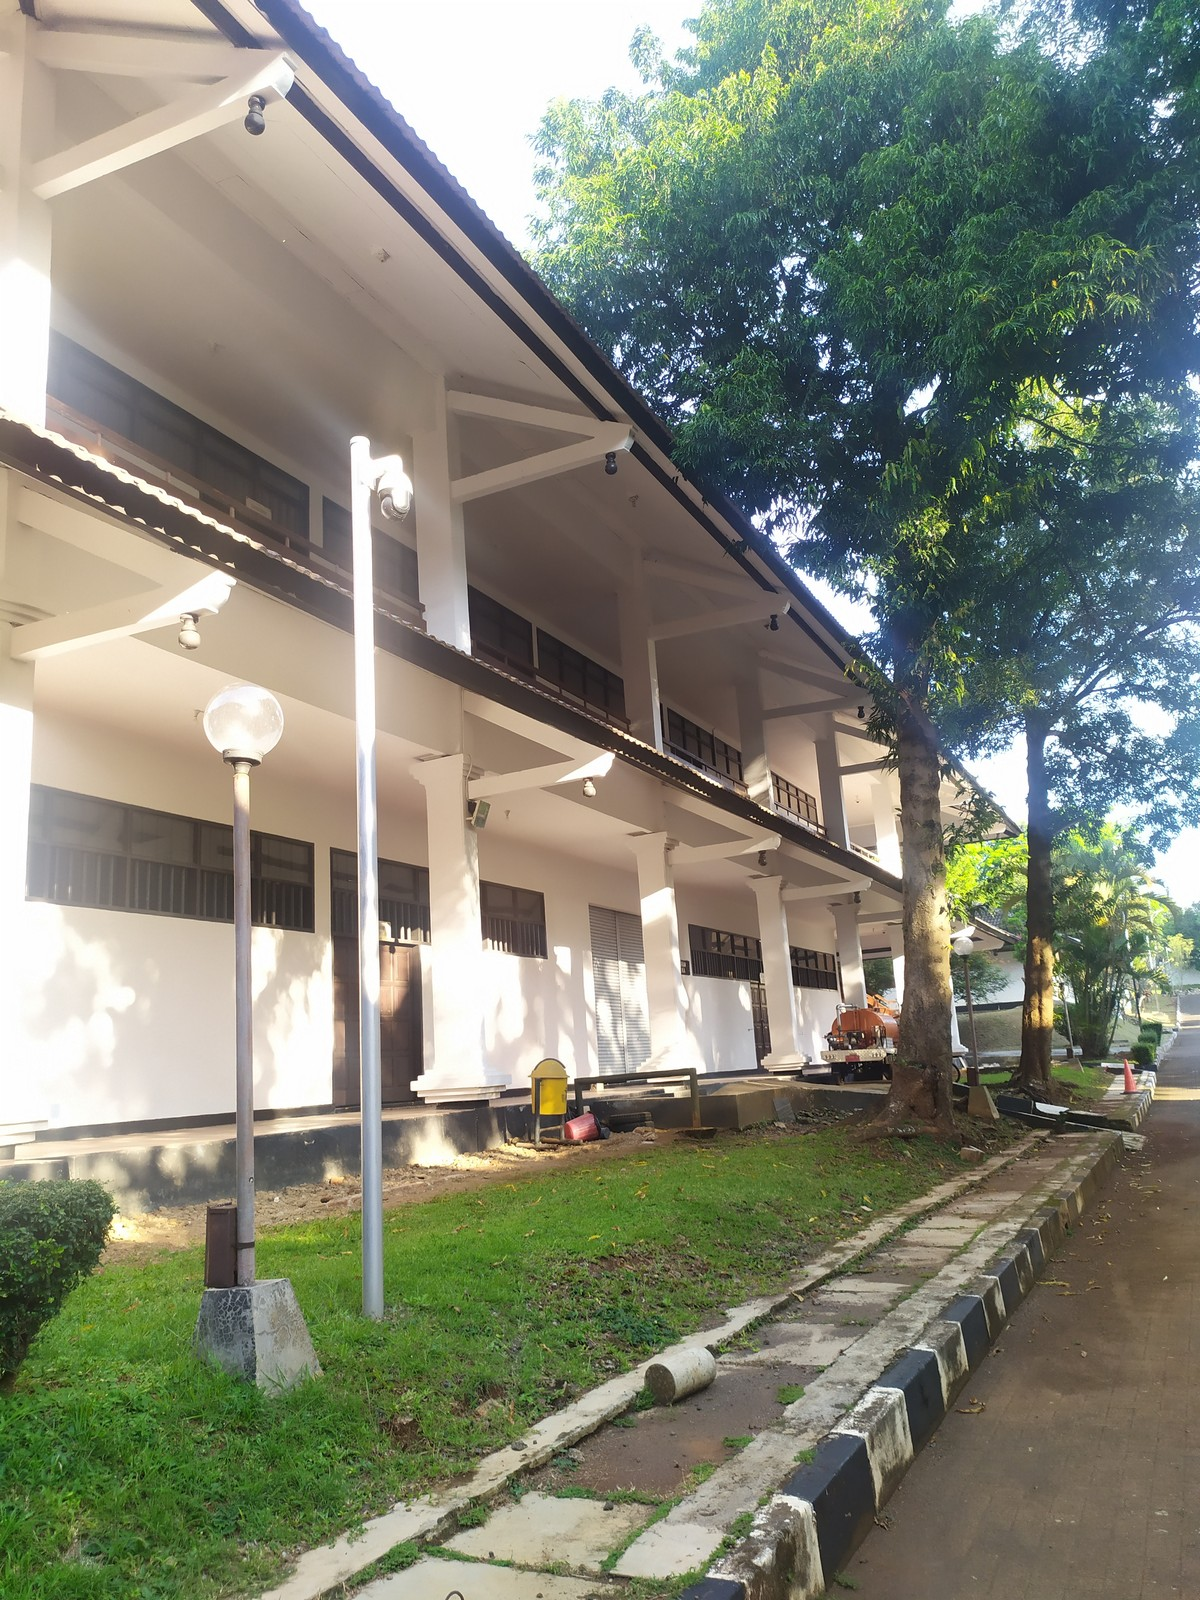concrete beam: (446, 443, 597, 505), (451, 757, 579, 813)
concrete column: (401, 372, 487, 651), (418, 757, 492, 1073), (637, 829, 696, 1070), (616, 551, 673, 750)
